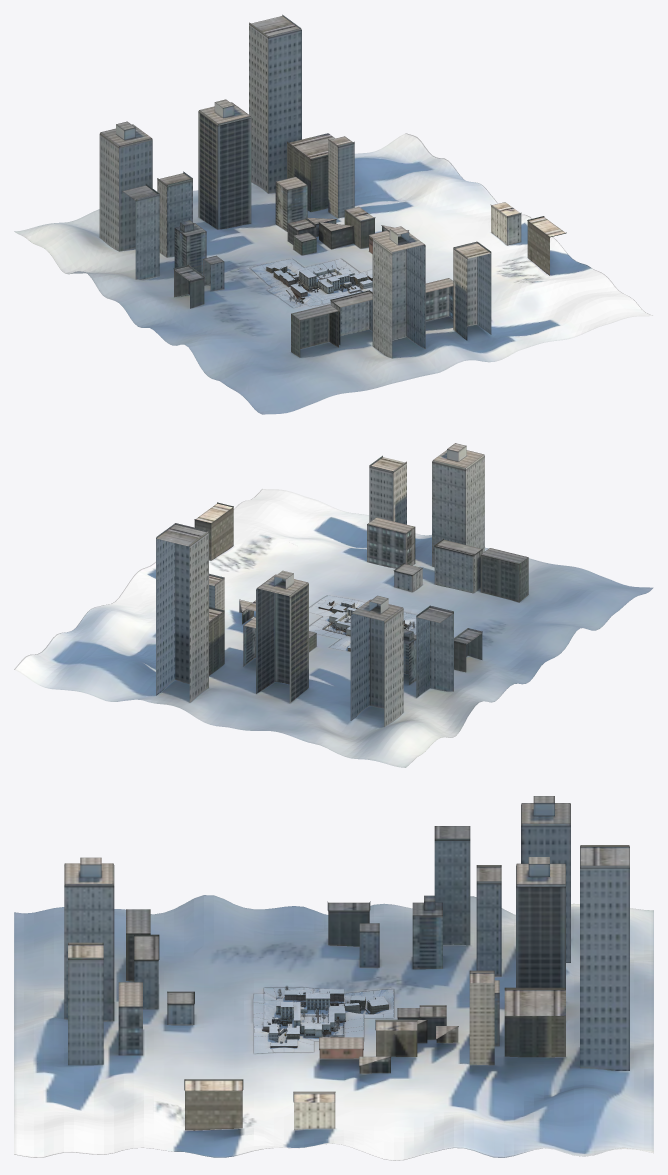
The model's file is office.glb.
3 renders of one model, top to bottom at view 1: azimuth 30°, elevation 25°; view 2: azimuth 150°, elevation 25°; view 3: azimuth 270°, elevation 25°, orthographic. The views are drawn at different scales.
Parts seen in each view (by area): view 1: A BACK2_BACK2_0, A BACK1_BACK1_0, A62_A62_0, A61_A61_0; view 2: A BACK2_BACK2_0, A BACK1_BACK1_0, A62_A62_0, A61_A61_0; view 3: A BACK2_BACK2_0, A BACK1_BACK1_0, A62_A62_0, A61_A61_0, A68_A68_0.
Part boxes in pixels (<box>): A BACK2_BACK2_0: <box>14,133,652,414</box>; A BACK1_BACK1_0: <box>99,14,566,358</box>; A62_A62_0: <box>250,258,372,307</box>; A61_A61_0: <box>266,262,372,304</box>; A BACK2_BACK2_0: <box>14,489,653,767</box>; A BACK1_BACK1_0: <box>156,443,528,726</box>; A62_A62_0: <box>309,595,416,650</box>; A61_A61_0: <box>319,599,413,648</box>; A BACK2_BACK2_0: <box>14,895,653,1160</box>; A BACK1_BACK1_0: <box>64,796,629,1130</box>; A62_A62_0: <box>253,987,393,1053</box>; A61_A61_0: <box>262,988,388,1045</box>; A68_A68_0: <box>276,999,345,1036</box>.
Size of what is drawn, in the model's own units: 29276 by 12060 by 32128.
Materials: 87 (86 with a texture image).
